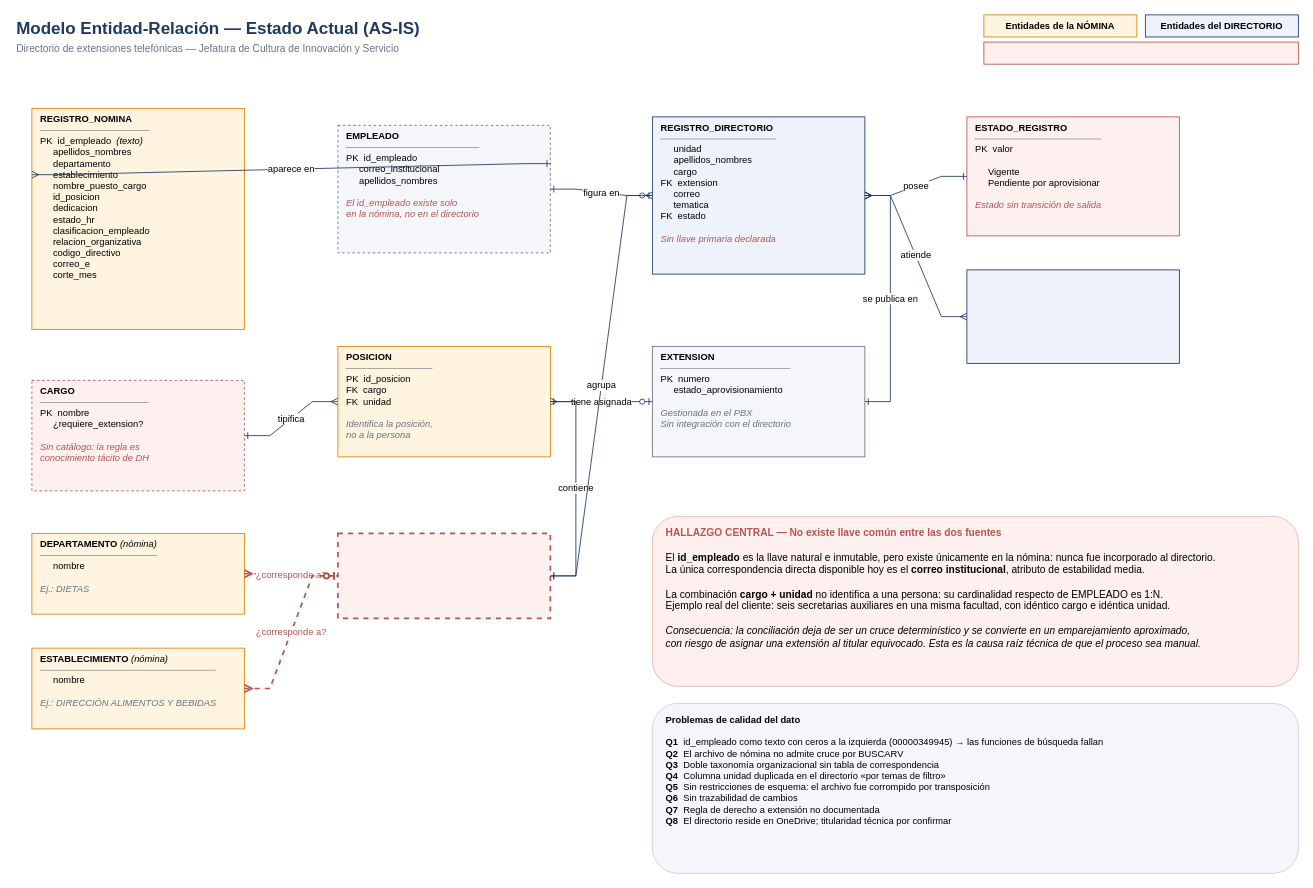
The diagram is 1313 pixels wide and 888 high, and some of its shapes have lost their labels. Each missing label, with the centre of its shape:
"Sin correspondencia definida" belongs at (1140,52).
"TEMATICA descripcion Texto libre no normalizado" belongs at (1072,316).
"UNIDAD PK nombre NO EXISTE CATÁLOGO MAESTRO" belongs at (444,575).
